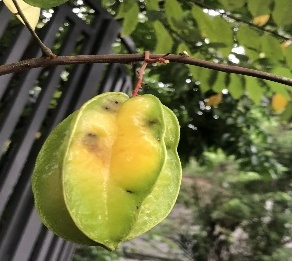Khe: (29, 91, 184, 251)
